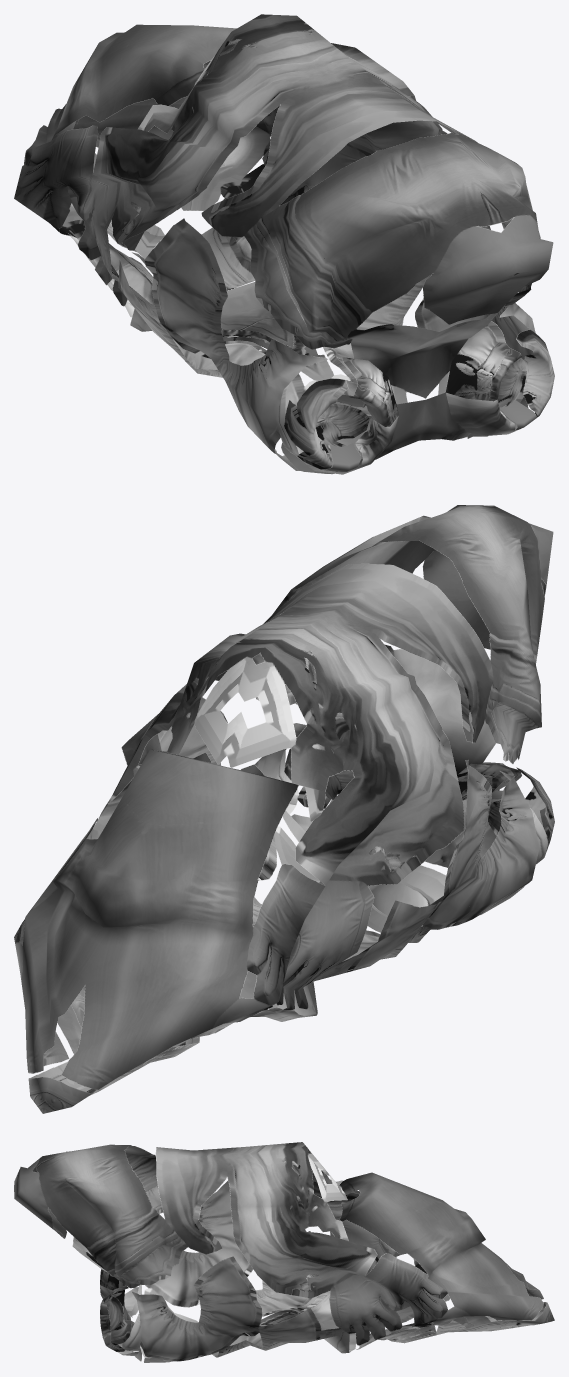
Rendered from feixingqi.fbx.
The picture shows the model from 3 angles, top to bottom: view 1: azimuth 30°, elevation 25°; view 2: azimuth 150°, elevation 25°; view 3: azimuth 270°, elevation 25°; orthographic projection. The views are drawn at different scales.
Visible parts, largest first — view 1: polySurface106; view 2: polySurface106; view 3: polySurface106.
Boxes of the visible parts, x1,y1,x2,y2 form: polySurface106: (14,14,554,474); polySurface106: (14,505,554,1113); polySurface106: (14,1142,554,1362).
Size of the model in its own units: 18.12 by 17.17 by 42.9.
